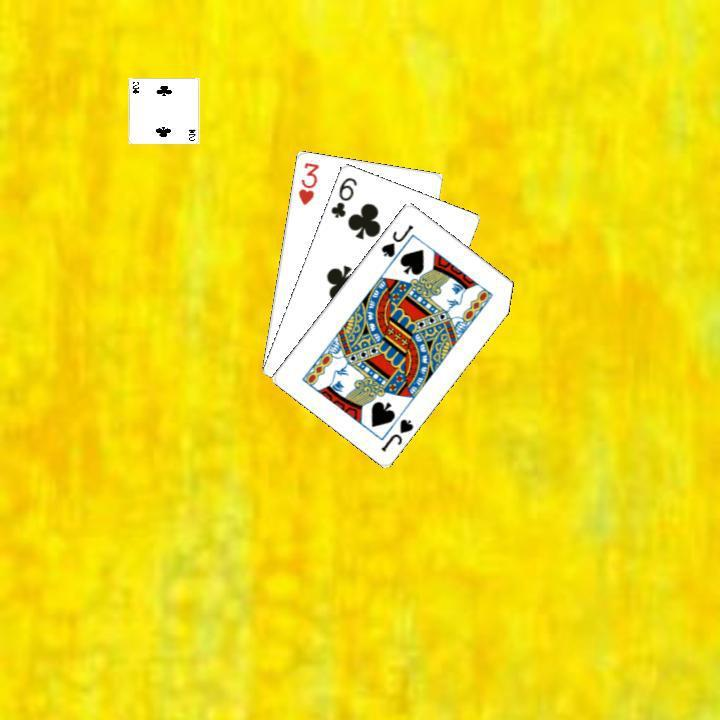3: (294, 158, 321, 207)
6: (326, 172, 359, 219)
J: (376, 414, 416, 454), (376, 220, 415, 259)
